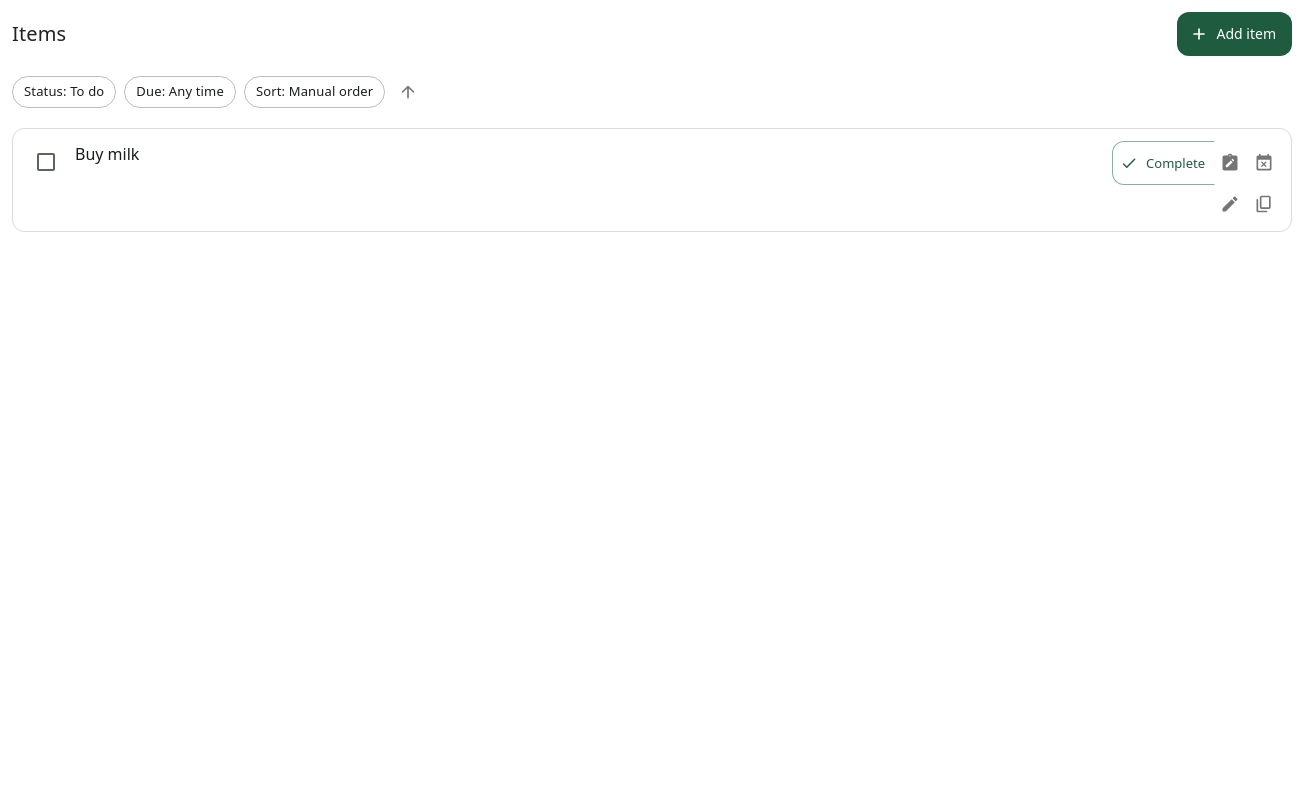
Test: ItemsSection › says what happened when a lapse takes the row away
Click the button named "Lapse Buy milk" at (1264, 163), box [1249,148,1279,178]
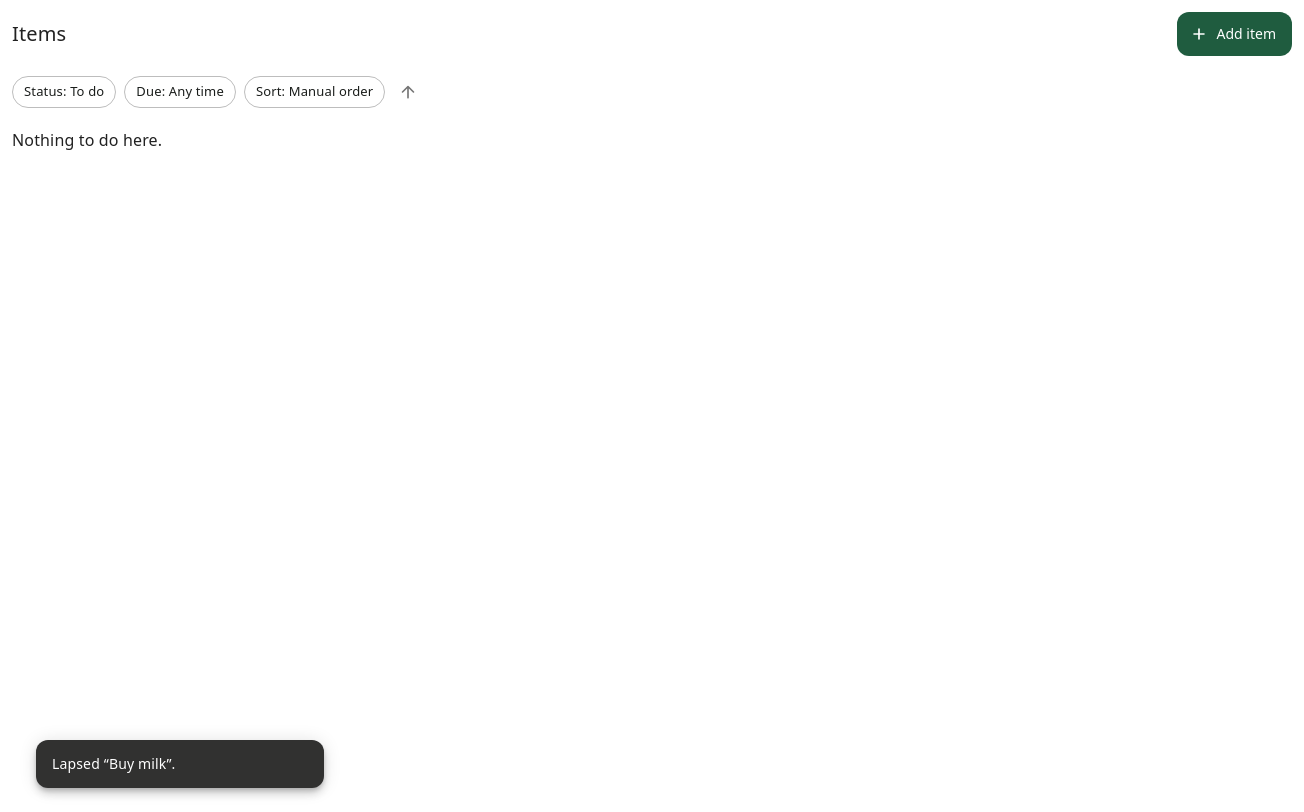
Now the text "Lapsed “Buy milk”." is shown, box [52,754,176,773]
